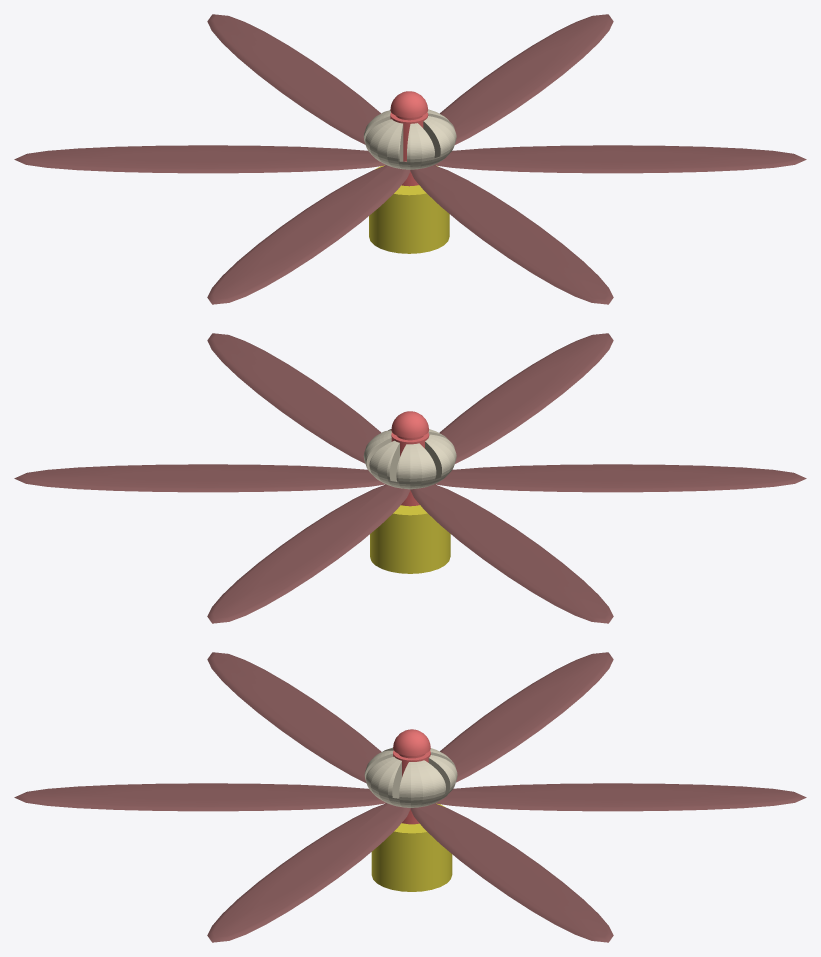
File: FlyGear_Propeller2.fbx
3 views of the same model, one above another, from view 1: azimuth 30°, elevation 25°; view 2: azimuth 150°, elevation 25°; view 3: azimuth 270°, elevation 25° (orthographic).
Visible parts, largest first — view 1: Model; view 2: Model; view 3: Model.
Part boxes in pixels (x1,y1,x2,y2): Model: (14,14,806,304); Model: (14,333,806,623); Model: (14,652,806,942).
Bounding box in the file's own units: 158 × 36.63 × 183.
